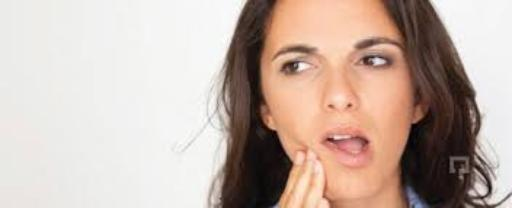left_eye: (355, 55, 394, 68)
left_lip_corner: (363, 138, 374, 149)
right_eye: (280, 59, 321, 74)
right_lip_corner: (318, 136, 335, 147)
